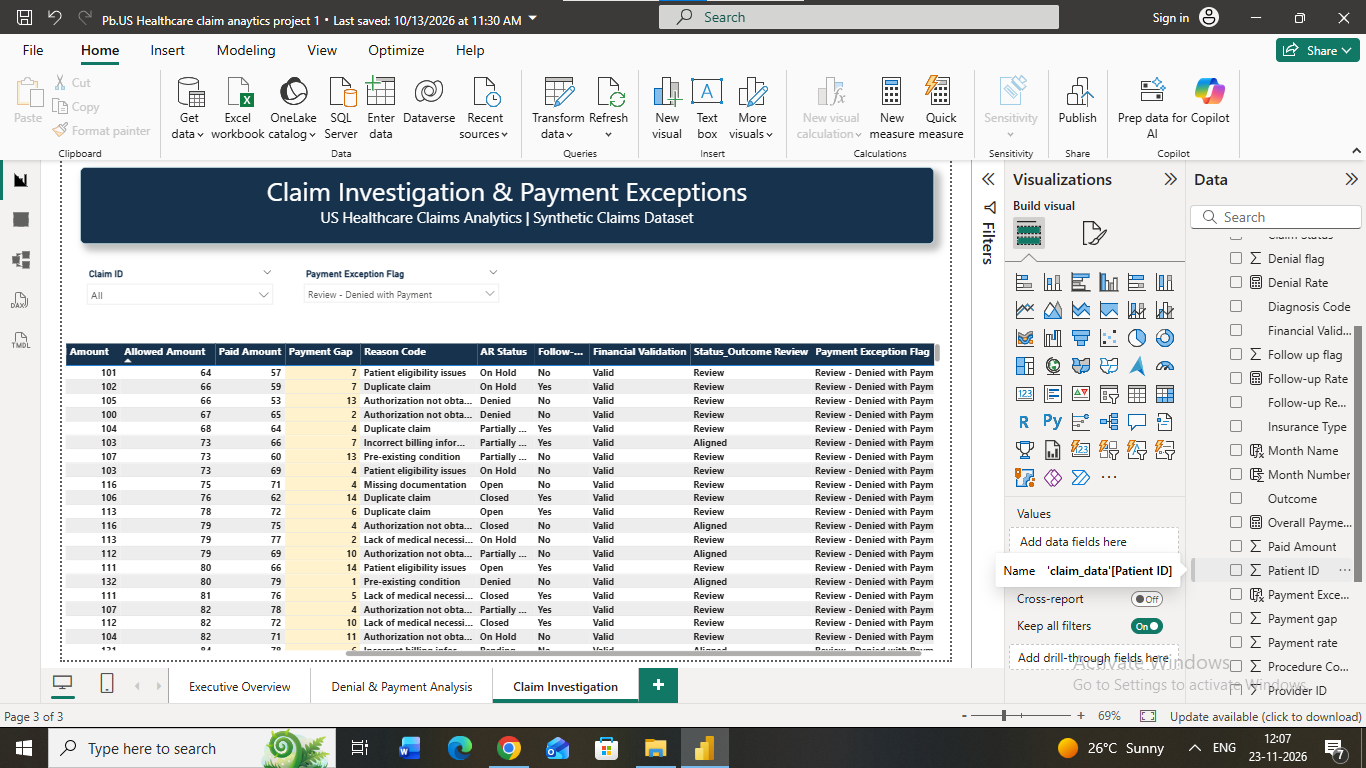

The dashboard page shown, as its layout file describes it:
{"tool":"powerbi","page":{"name":"Claim Investigation","canvas":[1280,720],"ordinal":2},"visuals":[{"type":"slicer","fields":{"Values":["claim_data.Claim ID"]},"box":[25.9,151.2,288,80.6],"z":0},{"type":"tableEx","fields":{"Values":["claim_data.Claim ID","claim_data.Service Date Cleaned","claim_data.Insurance Type","claim_data.Claim Status","claim_data.Outcome","claim_data.Billed Amount","claim_data.Allowed Amount","claim_data.Paid Amount","claim_data.Payment gap","claim_data.Reason Code","claim_data.AR Status","claim_data.Follow-up Required"]},"box":[0,259.2,1270.1,460.8],"z":1000},{"type":"textbox","box":[25.9,10.1,1229.8,110.9],"z":2000},{"type":"slicer","fields":{"Values":["claim_data.Payment Exception Flag"]},"box":[338.4,151.2,301,80.6],"z":3000}]}

Visuals, with their boxes on the page's 1280x720 design canvas (x1, y1, x2, y2). These are canvas units, not pixel positions in the 1366x768 screenshot, which may show the page scaled, cropped or inside an application window:
slicer - claim_data.Claim ID: bbox=[26, 151, 314, 232]
tableEx - claim_data.Claim ID x claim_data.Service Date Cleaned: bbox=[0, 259, 1270, 720]
textbox: bbox=[26, 10, 1256, 121]
slicer - claim_data.Payment Exception Flag: bbox=[338, 151, 639, 232]
